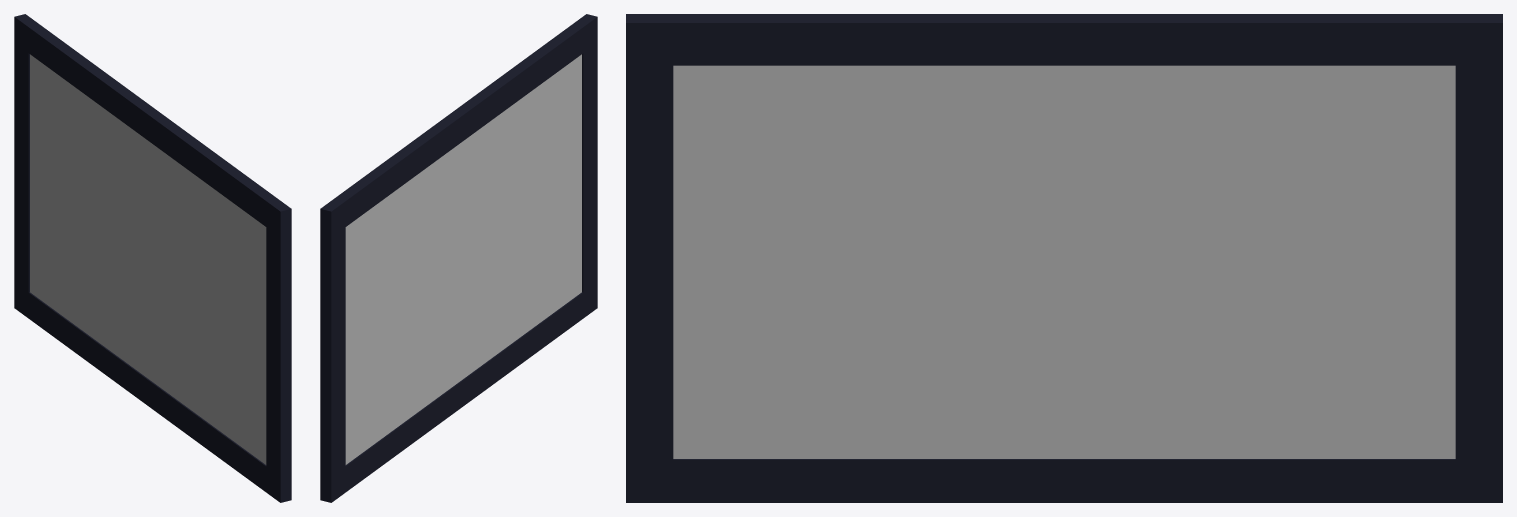
File: Sign_Small_03.fbx
3 views of the same model, side by side, from view 1: azimuth 30°, elevation 25°; view 2: azimuth 150°, elevation 25°; view 3: azimuth 270°, elevation 25° (orthographic). The views are drawn at different scales.
Parts seen in each view (by area): view 1: Cube.540; view 2: Cube.540; view 3: Cube.540.
Part boxes in pixels (bbox=[...]): Cube.540: bbox=[14, 14, 291, 502]; Cube.540: bbox=[320, 14, 597, 502]; Cube.540: bbox=[626, 14, 1502, 502].
Bounding box in the file's own units: 1.68 × 41.99 × 69.52.
